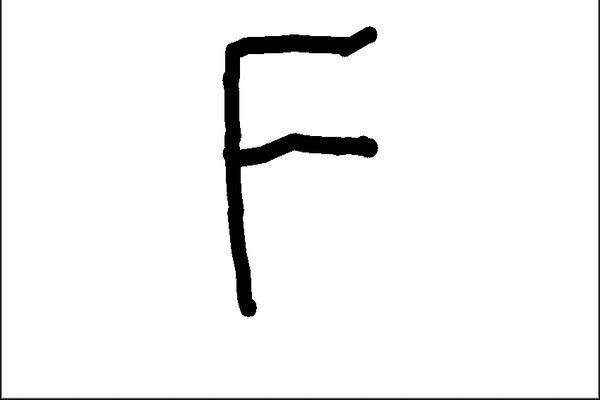F: (216, 23, 385, 321)
